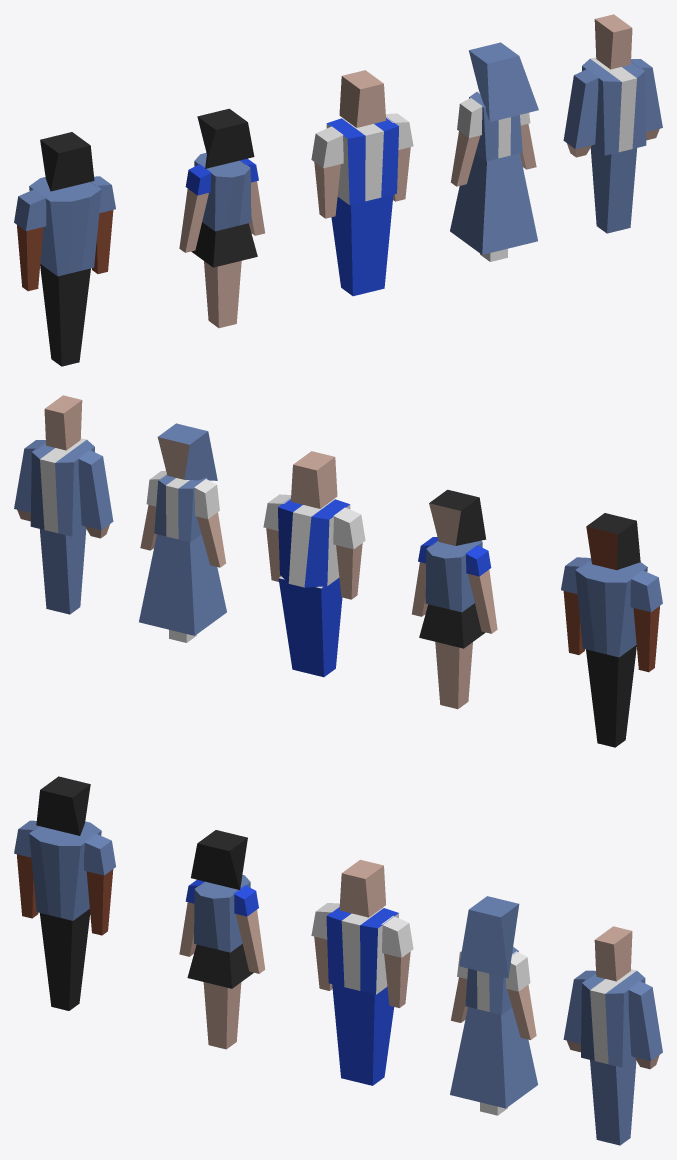
Rendered from rehenes.fbx.
The picture shows the model from 3 angles, top to bottom: view 1: azimuth 30°, elevation 25°; view 2: azimuth 150°, elevation 25°; view 3: azimuth 330°, elevation 25°; orthographic projection.
Visible parts, largest first — view 1: Cube.002, Cube, Cube.003, Cube.004, Cube.001; view 2: Cube.002, Cube, Cube.003, Cube.004, Cube.001; view 3: Cube.002, Cube, Cube.003, Cube.004, Cube.001.
Part boxes in pixels (x1,y1,x2,y2): Cube.002: (311, 70, 413, 296); Cube: (14, 132, 115, 366); Cube.003: (450, 42, 538, 261); Cube.004: (563, 14, 662, 233); Cube.001: (179, 108, 264, 328); Cube.002: (263, 451, 365, 677); Cube: (561, 513, 662, 747); Cube.003: (139, 423, 226, 642); Cube.004: (14, 395, 113, 614); Cube.001: (412, 489, 497, 709); Cube.002: (311, 859, 413, 1085); Cube: (14, 776, 115, 1010); Cube.003: (450, 896, 537, 1115); Cube.004: (563, 926, 662, 1145); Cube.001: (179, 830, 265, 1049).
Bounding box in the file's own units: 0.8101 × 0.265 × 0.0742.
